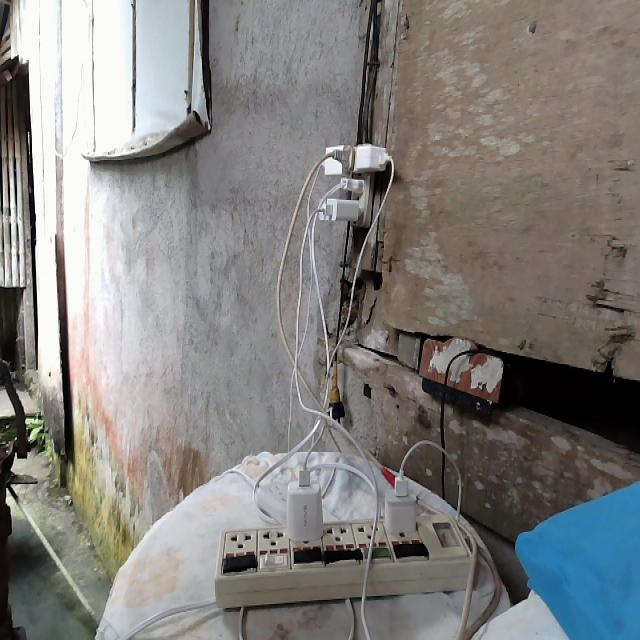-: (309, 138, 396, 226)
